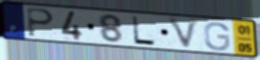4: (59, 10, 85, 42)
8: (96, 13, 125, 44)
G: (203, 21, 232, 52)
L: (130, 15, 158, 48)
P: (26, 6, 56, 39)
V: (166, 16, 202, 52)
